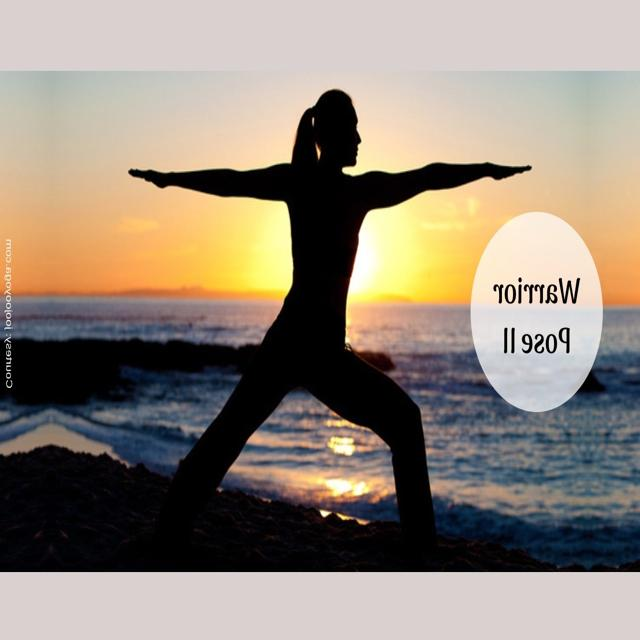Warrior_II: (127, 88, 537, 536)
